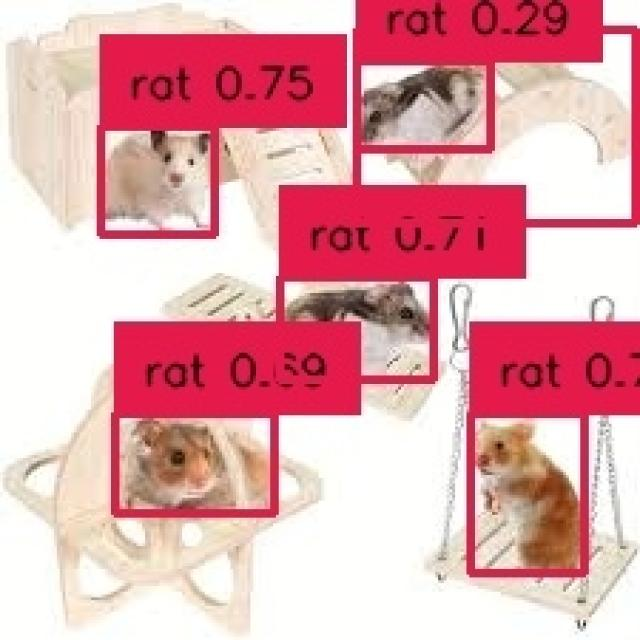rat: (352, 26, 632, 219), (466, 409, 580, 569), (276, 273, 429, 376), (111, 410, 270, 509), (96, 122, 210, 230), (353, 57, 486, 145)
